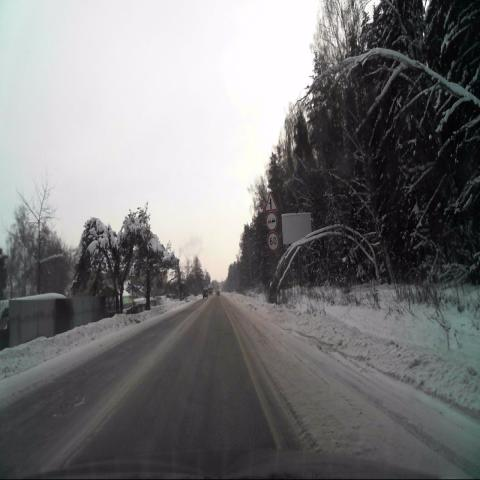2_3_3: (265, 192, 277, 212)
